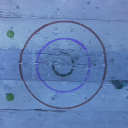Axe Tip: (110, 80, 121, 82)
